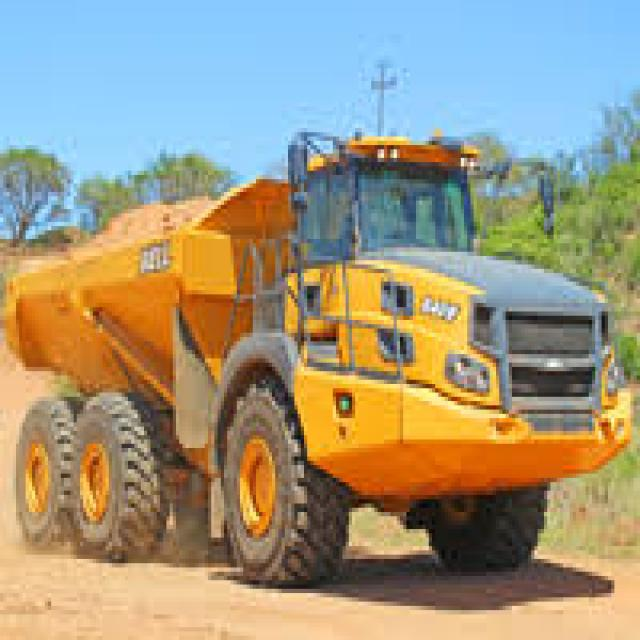dump_truck: (12, 90, 634, 597)
